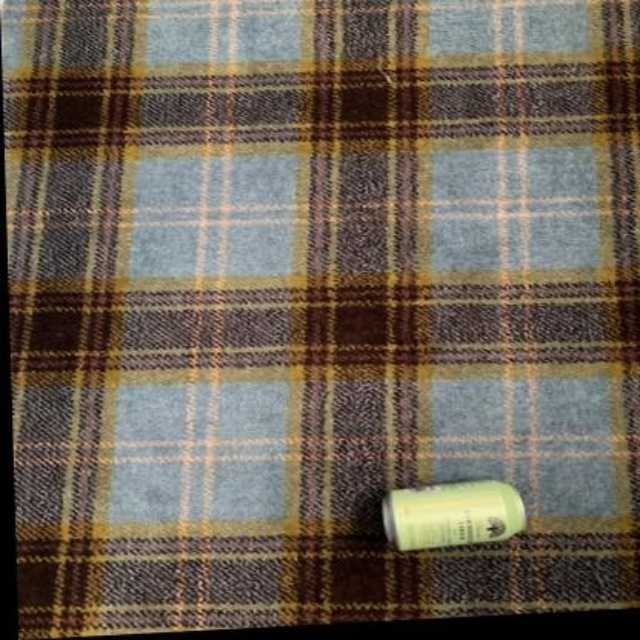trash: (382, 480, 525, 549)
